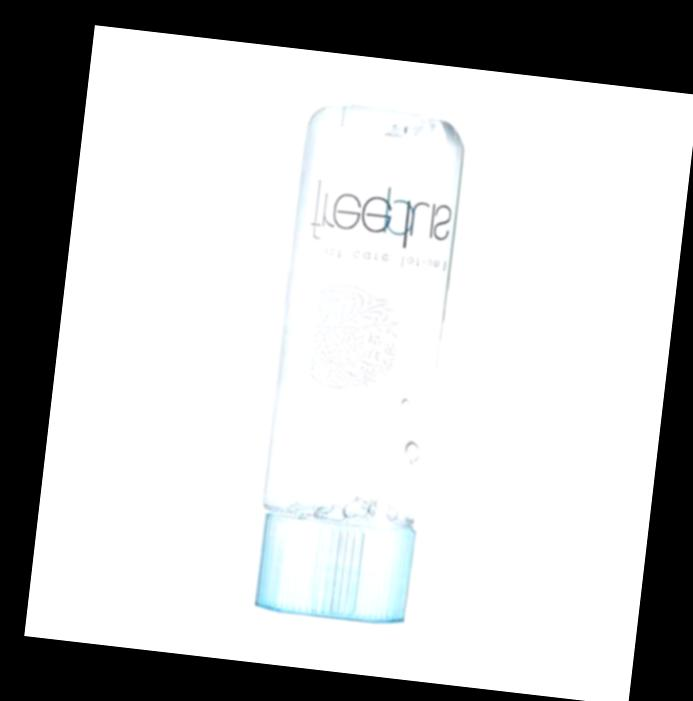cosmetic: (254, 98, 470, 622)
